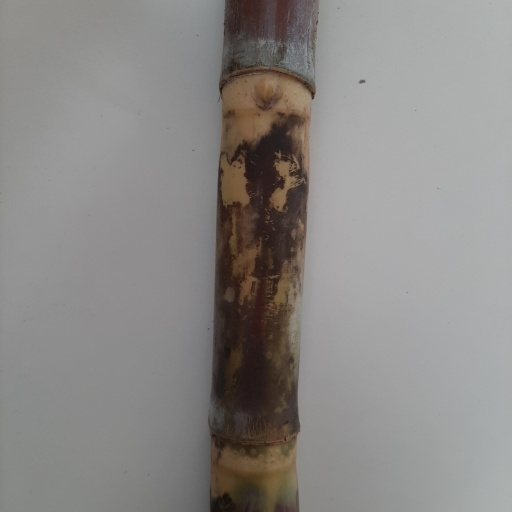Bud: (253, 74, 281, 111)
